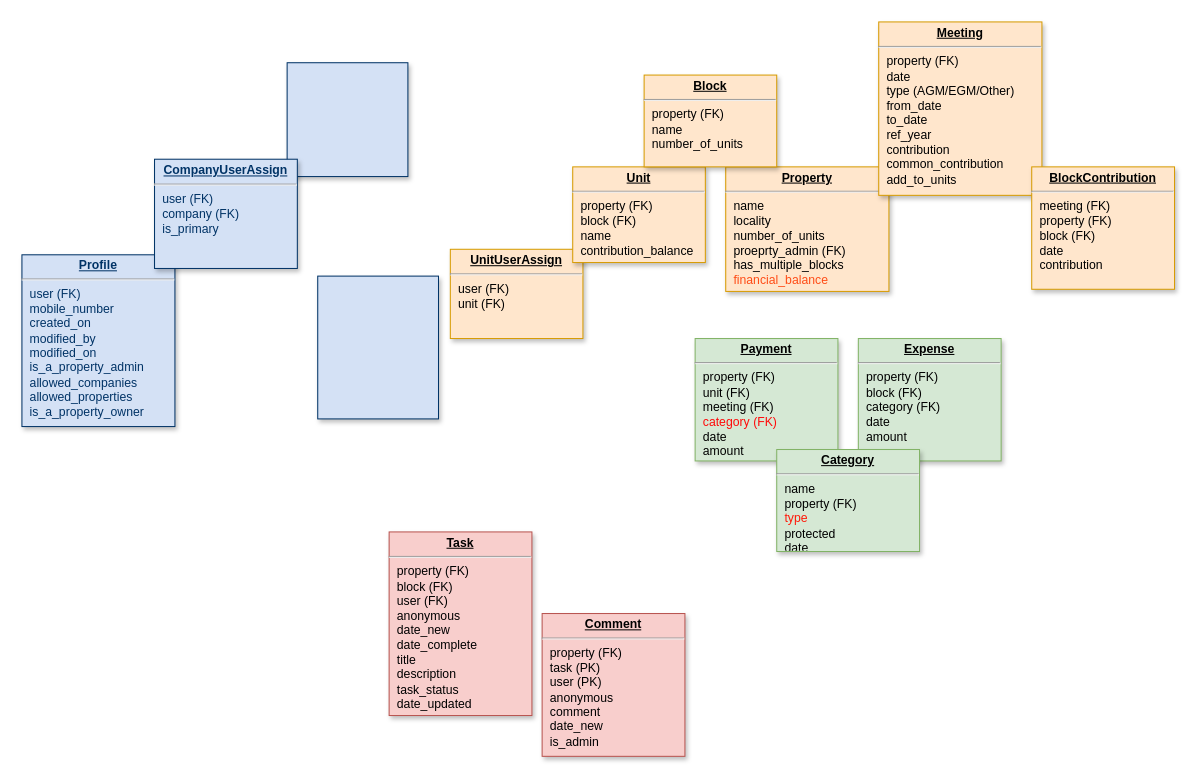
Image size: 1199x781. Some labels were removed from this diagram. The shapes that lost their labels are listed below. From the top down, each one's centre as x and y in pixels, then its label:
At point 348,120: "Company name mobile_number type (Ind/Company)".
At point 378,349: "User username password name surname email".
